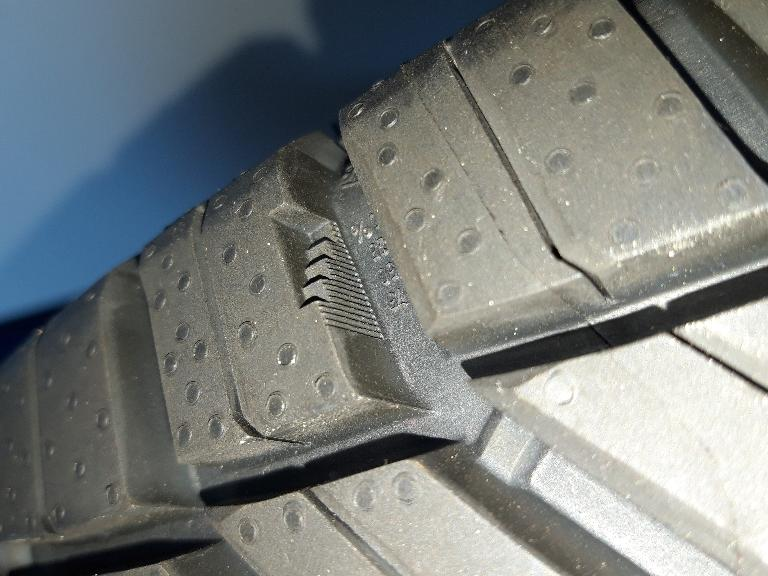temoin:100: (265, 198, 389, 344)
